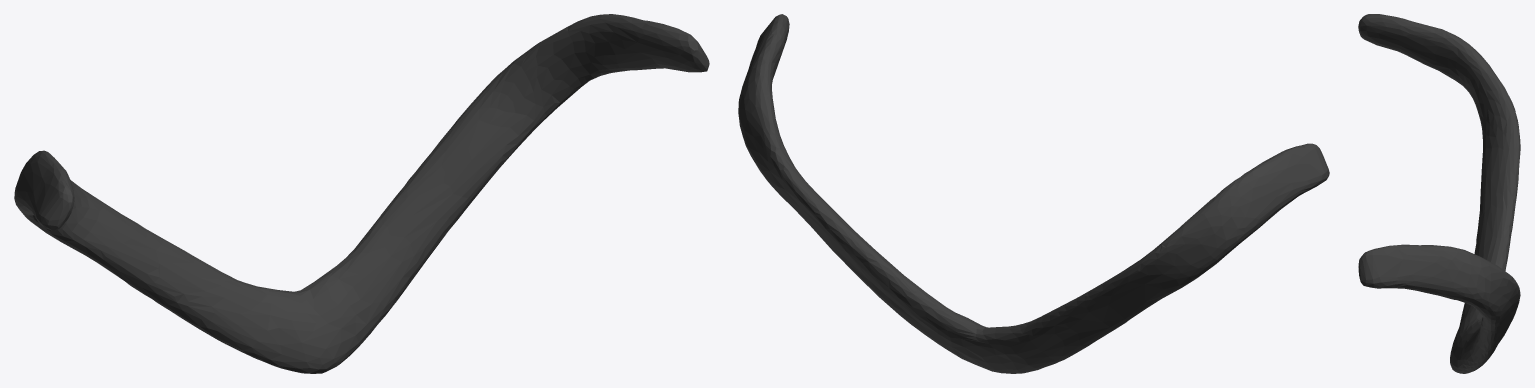
The model's file is m_cervicoauricularis_profundus.glb.
3 views of the same model, side by side, from view 1: azimuth 30°, elevation 25°; view 2: azimuth 150°, elevation 25°; view 3: azimuth 270°, elevation 25° (orthographic). The views are drawn at different scales.
Visible parts, largest first — view 1: m_cervicoauricularis_profundus; view 2: m_cervicoauricularis_profundus; view 3: m_cervicoauricularis_profundus.
Boxes of the visible parts, <box> form: m_cervicoauricularis_profundus: <box>14,14,709,373</box>; m_cervicoauricularis_profundus: <box>738,14,1329,373</box>; m_cervicoauricularis_profundus: <box>1358,14,1520,373</box>.
Bounding box in the file's own units: 0.00252 × 0.0011 × 0.000683.
Materials: 1 (1 with a texture image).
